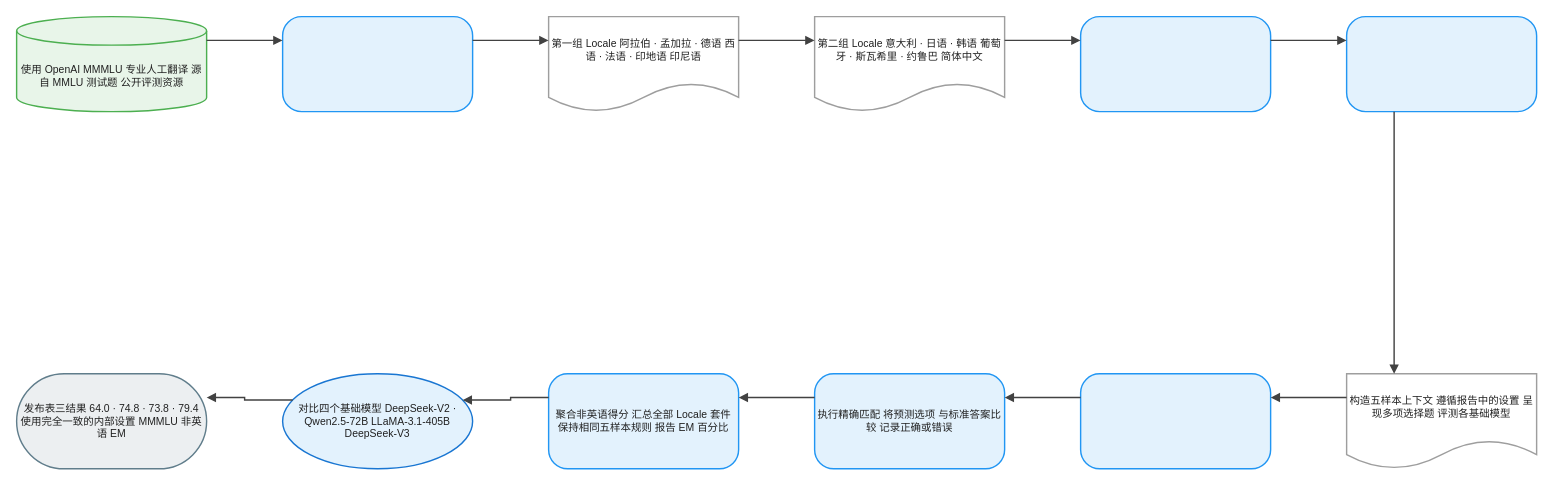
Some shapes in this 1554 by 486 pixel diagram are drawn without their labels. The box of each missing label's shape, as (x1, y1, x2, y2) in pixels:
保持 MMLU 结构 覆盖 57 类知识学科 每题四个答案选项 每题保留标准答案: (1079, 15, 1271, 112)
加载 DeepSeek 框架 使用统一内部评测器 所有模型采用同一设置 使用表三中的基准名称: (1345, 15, 1537, 112)
执行困惑度评测 为候选选项打分 使用模型似然 生成一个预测选项: (1079, 373, 1271, 469)
选择非英语套件 保留全部 14 个翻译版本 不含英语测试题 保持 Locale 身份: (281, 15, 473, 112)
